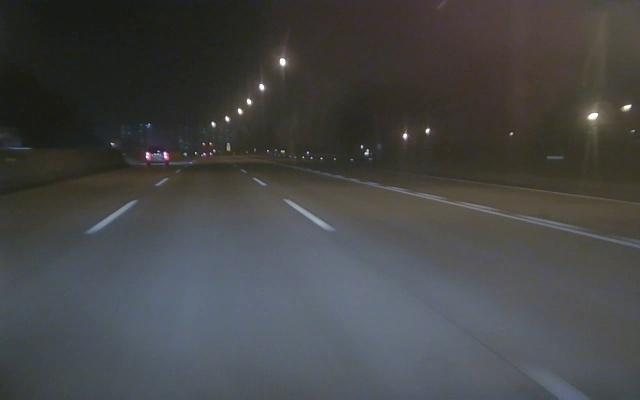lane: (349, 181, 638, 249), (256, 179, 339, 231), (84, 181, 164, 232)
